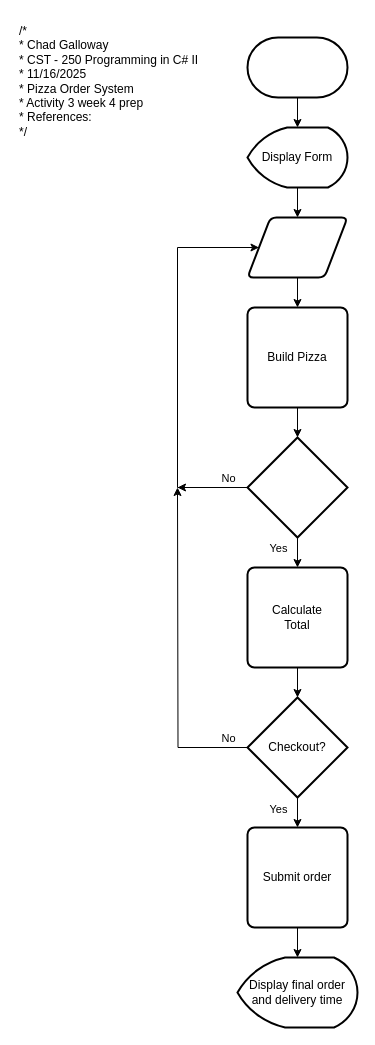
Some shapes in this 375 by 1045 pixel diagram are drawn without their labels. Each missing label, with the box of its shape:
Add to Cart?: (246, 436, 348, 538)
Start: (246, 36, 348, 98)
user Input: (246, 216, 348, 278)
